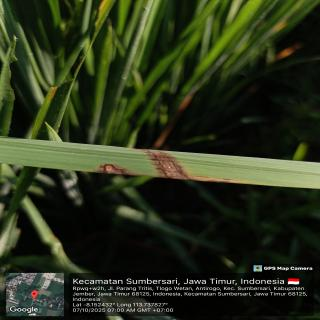Blast: (133, 149, 203, 182), (99, 161, 132, 176)
